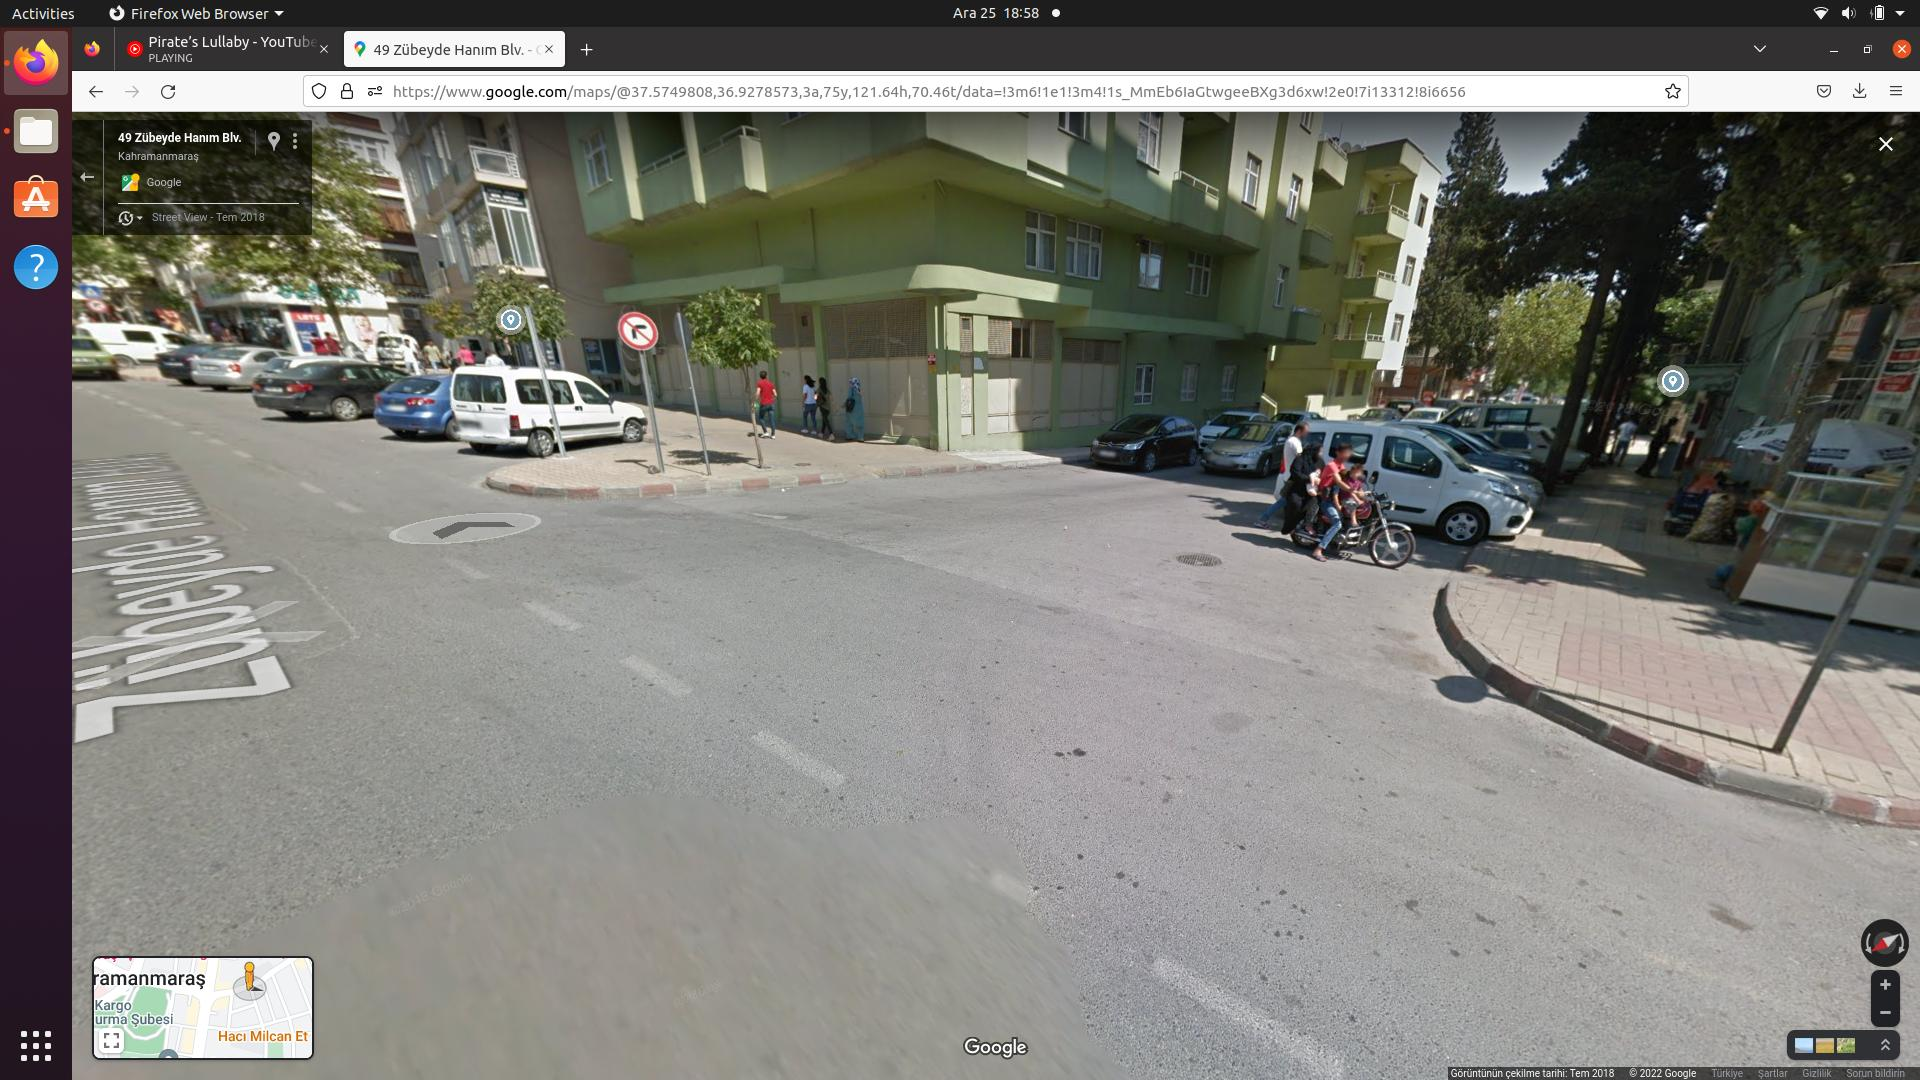rightturnsareforbidden: (618, 309, 662, 351), (620, 310, 658, 349)
